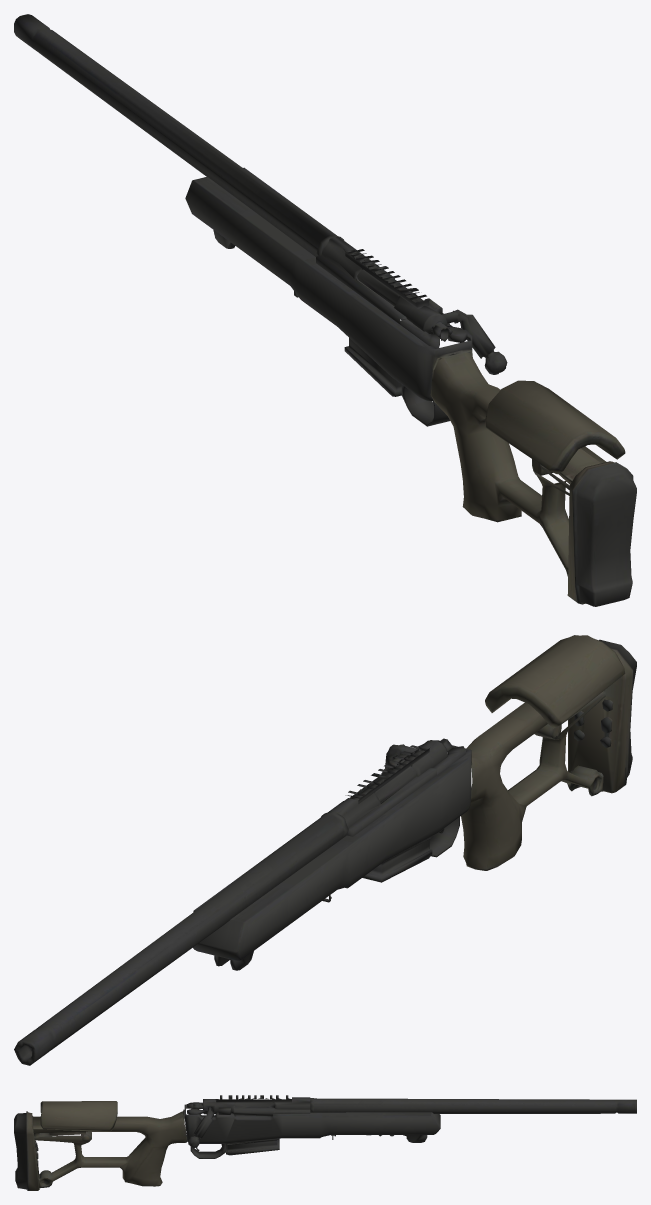
The model's file is awm.glb.
3 views of the same model, one above another, from view 1: azimuth 30°, elevation 25°; view 2: azimuth 150°, elevation 25°; view 3: azimuth 270°, elevation 25° (orthographic). The views are drawn at different scales.
Parts seen in each view (by area): view 1: furniture, body, bolt; view 2: furniture, body, magazine; view 3: furniture, body, magazine, bolt.
Part boxes in pixels (bbox=[...]): furniture: bbox=[185, 180, 636, 606]; body: bbox=[14, 14, 472, 356]; bolt: bbox=[466, 314, 507, 374]; furniture: bbox=[214, 635, 636, 970]; body: bbox=[14, 738, 471, 1065]; magazine: bbox=[362, 840, 428, 882]; furniture: bbox=[14, 1101, 439, 1190]; body: bbox=[184, 1095, 636, 1134]; magazine: bbox=[228, 1138, 279, 1155]; bolt: bbox=[188, 1112, 212, 1147].
Size of the model in its own units: 0.1244 by 0.2057 by 1.3.
Materials: 2 (2 with a texture image).
